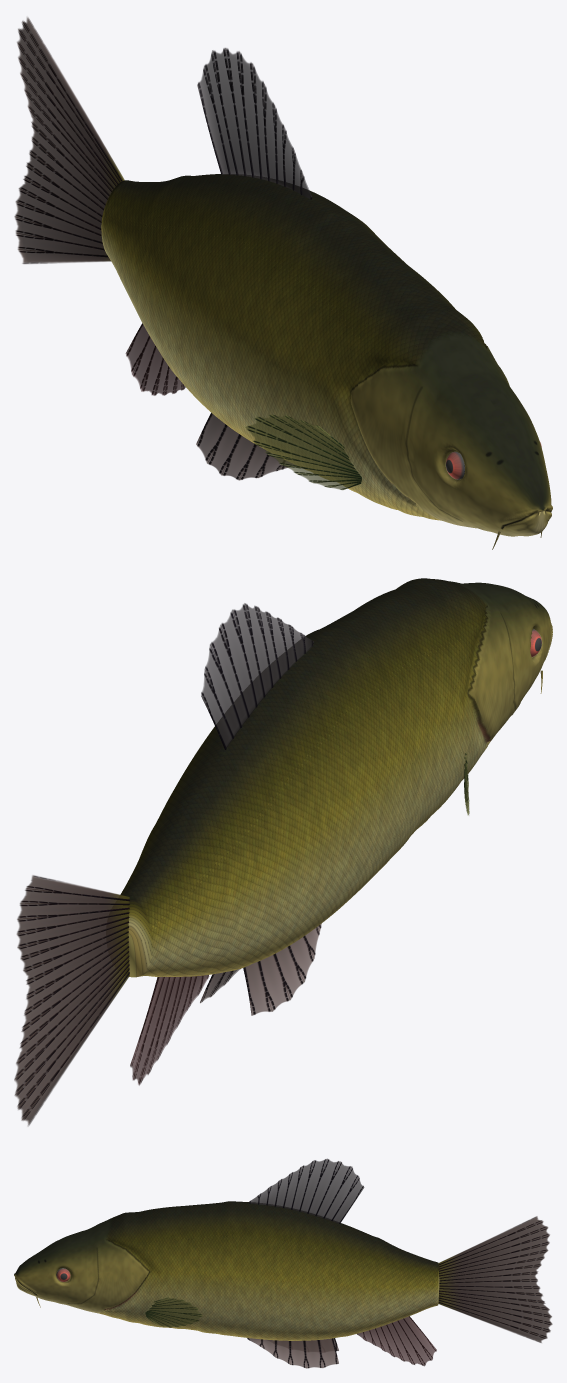
Rendered from lin.glb.
3 views of the same model, one above another, from view 1: azimuth 30°, elevation 25°; view 2: azimuth 150°, elevation 25°; view 3: azimuth 270°, elevation 25° (orthographic). The views are drawn at different scales.
Visible parts, largest first — view 1: Body, FinCaudal, FinDorsal1, FinPectoral, FinPelvic, FinAnal; view 2: Body, FinCaudal, FinDorsal1, FinPelvic, FinAnal; view 3: Body, FinCaudal, FinDorsal1, FinAnal, FinPelvic, FinPectoral.
Part boxes in pixels (bbox=[...]): Body: bbox=[101, 174, 552, 536]; FinCaudal: bbox=[14, 17, 124, 263]; FinDorsal1: bbox=[197, 48, 312, 199]; FinPectoral: bbox=[245, 414, 361, 489]; FinPelvic: bbox=[196, 412, 294, 480]; FinAnal: bbox=[125, 323, 185, 395]; Body: bbox=[120, 578, 552, 977]; FinCaudal: bbox=[14, 875, 129, 1126]; FinDorsal1: bbox=[201, 603, 313, 749]; FinPelvic: bbox=[200, 923, 321, 1015]; FinAnal: bbox=[130, 975, 209, 1085]; Body: bbox=[14, 1201, 439, 1340]; FinCaudal: bbox=[438, 1216, 552, 1342]; FinDorsal1: bbox=[249, 1158, 364, 1223]; FinAnal: bbox=[357, 1316, 436, 1366]; FinPelvic: bbox=[247, 1338, 338, 1368]; FinPectoral: bbox=[145, 1297, 202, 1327].
Bounding box in the file's own units: 0.2437 × 0.4277 × 1.
9 materials, 8 textured.
